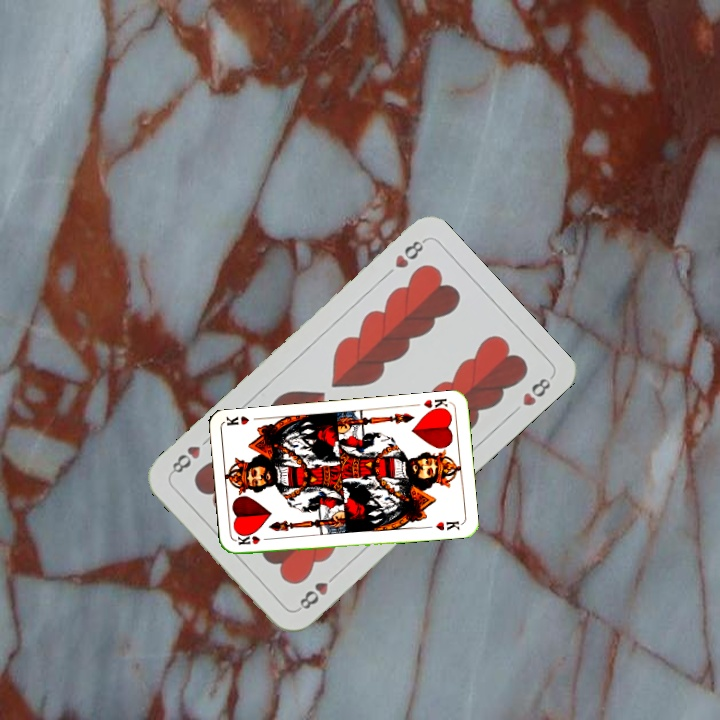H8: (293, 569, 341, 613), (390, 235, 428, 271)
HK: (420, 394, 451, 415), (234, 531, 274, 547)
